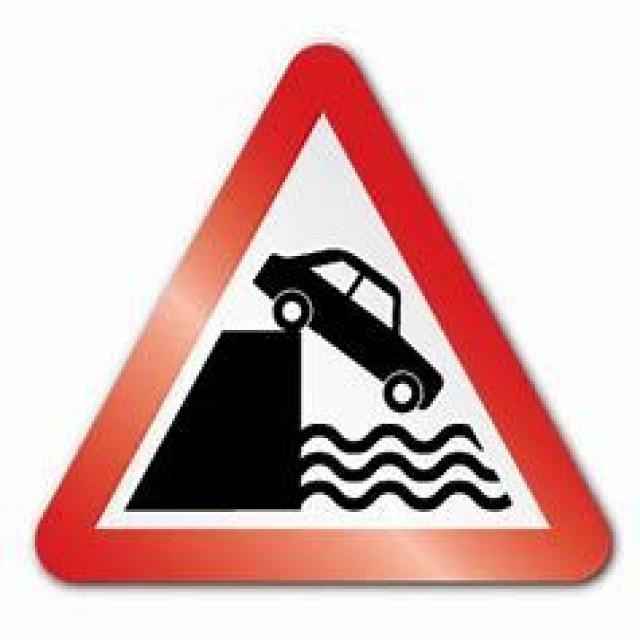QUAY_SIDE_OR_RIVER_BANK: (32, 43, 613, 586)
